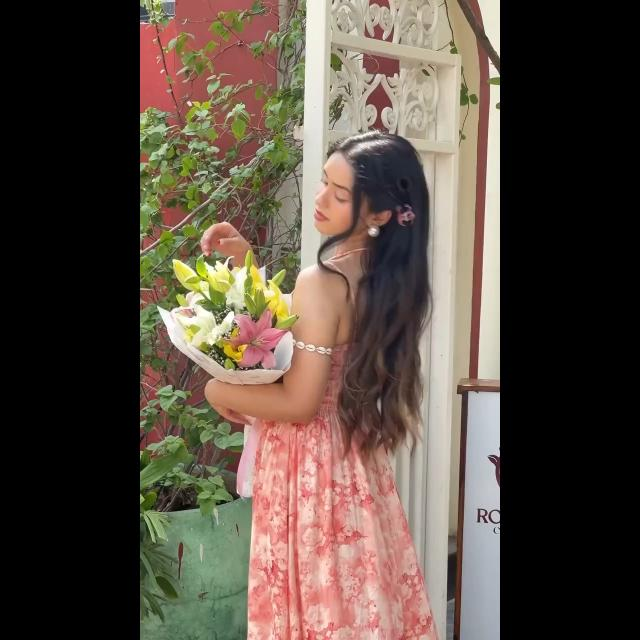dress: (252, 256, 428, 640)
ear ring: (366, 223, 378, 235)
